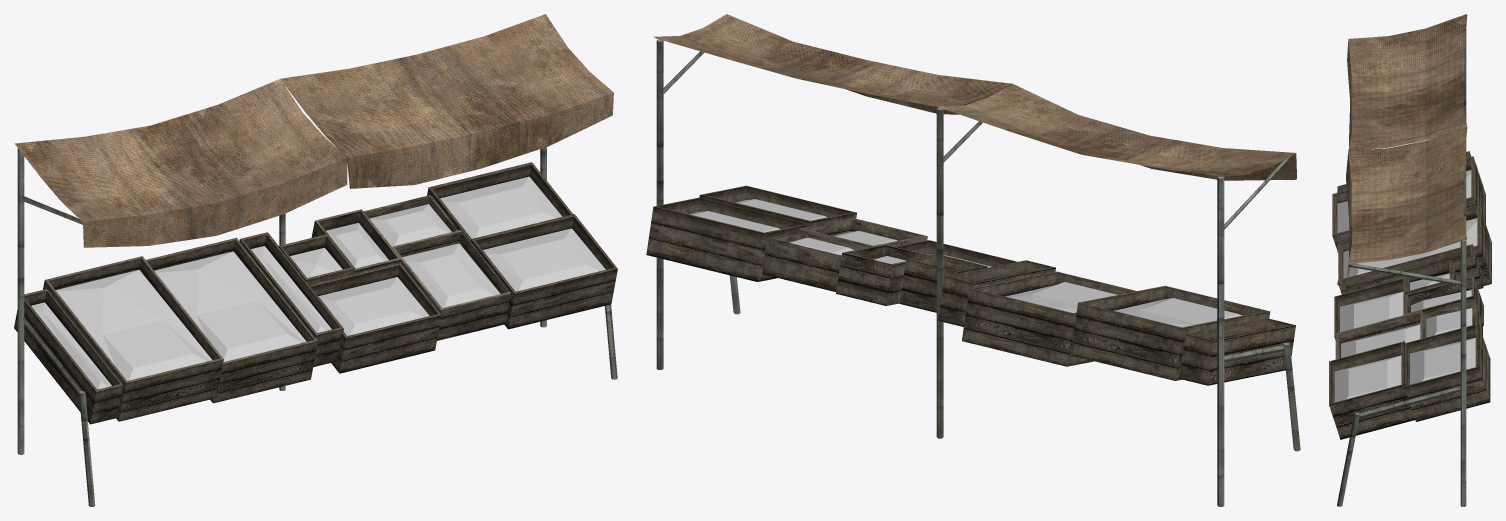
The model's file is frn_tato_fruit_stand_large_s01_l0.fbx.
The picture shows the model from 3 angles, left to right: view 1: azimuth 30°, elevation 25°; view 2: azimuth 150°, elevation 25°; view 3: azimuth 270°, elevation 25°; orthographic projection. The views are drawn at different scales.
Visible parts, largest first — view 1: mesh_node; view 2: mesh_node; view 3: mesh_node.
Part boxes in pixels (<box>): mesh_node: <box>14,14,617,506</box>; mesh_node: <box>646,14,1300,506</box>; mesh_node: <box>1329,14,1491,506</box>.
Bounding box in the file's own units: 5.22 × 2.91 × 1.6.
